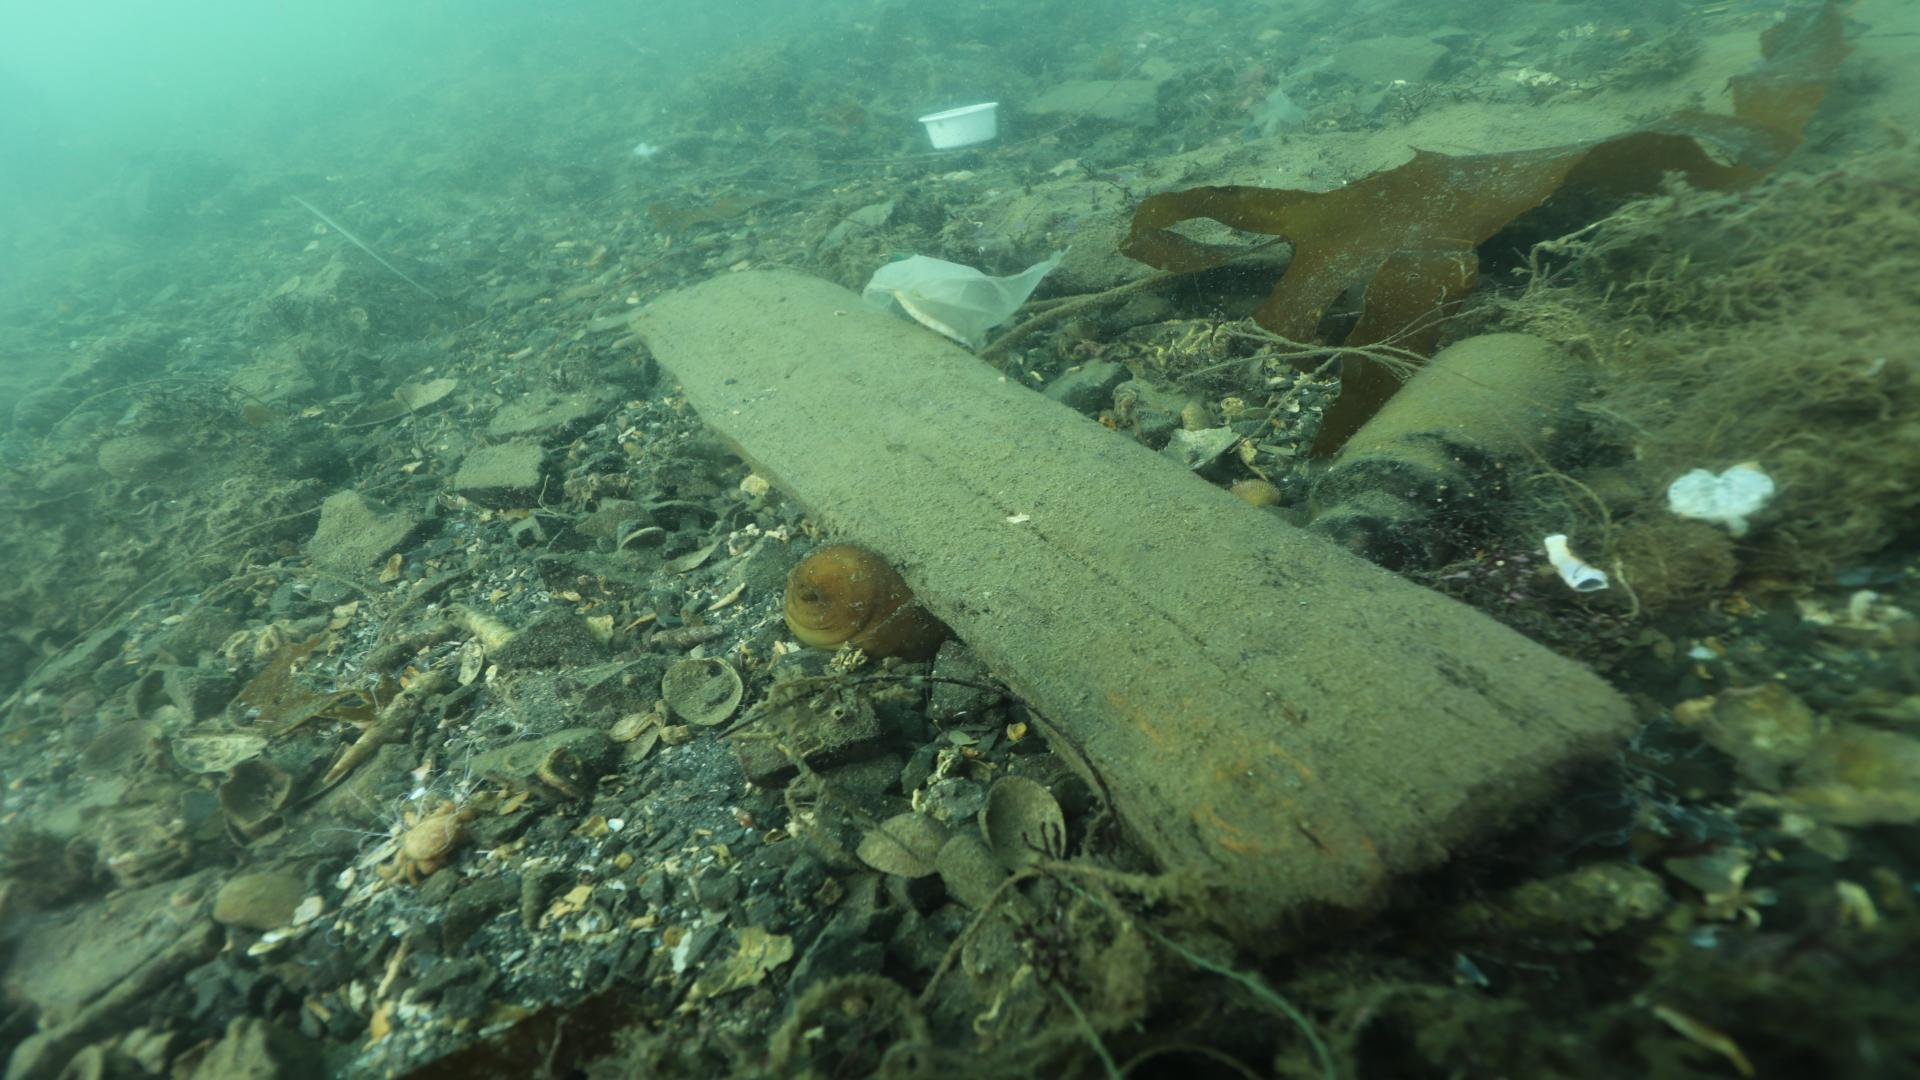wood: (618, 258, 1639, 949)
